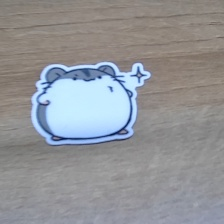mouse: (29, 58, 153, 146)
